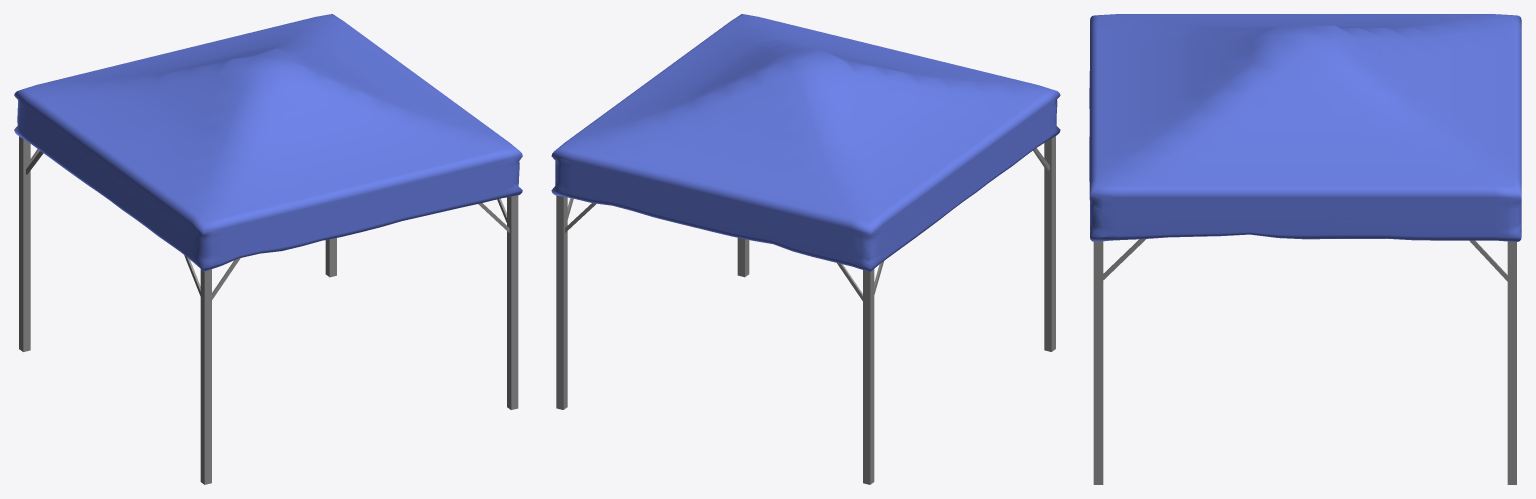
The model's file is Final_Tent.fbx.
3 views of the same model, side by side, from view 1: azimuth 30°, elevation 25°; view 2: azimuth 150°, elevation 25°; view 3: azimuth 270°, elevation 25° (orthographic). The views are drawn at different scales.
Visible parts, largest first — view 1: polySurface72, polySurface77; view 2: polySurface72, polySurface77; view 3: polySurface72, polySurface77.
Part boxes in pixels (x1,y1,x2,y2): polySurface72: (14, 14, 522, 271); polySurface77: (19, 136, 518, 484); polySurface72: (551, 14, 1060, 271); polySurface77: (556, 136, 1055, 484); polySurface72: (1089, 14, 1521, 241); polySurface77: (1093, 239, 1516, 484).
Size of the model in its own units: 44.3 by 42.1 by 45.44.
